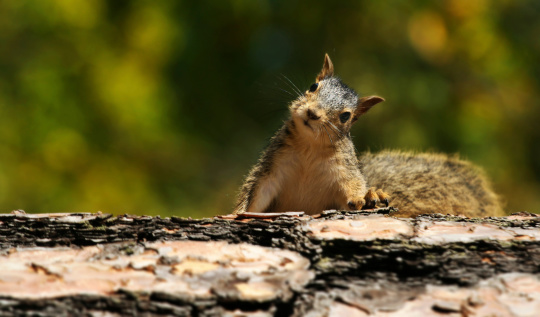squirrel: (238, 53, 496, 216)
